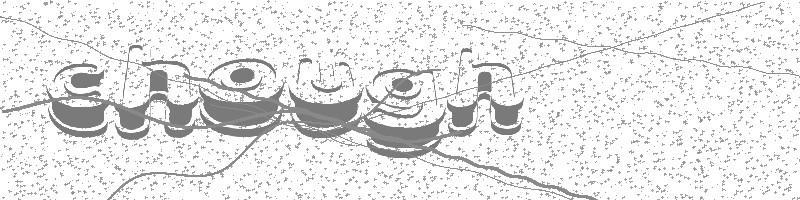c: (45, 62, 111, 139)
g: (363, 66, 446, 159)
h: (112, 42, 199, 141), (447, 47, 525, 137)
o: (198, 55, 285, 138)
u: (288, 56, 362, 139)
